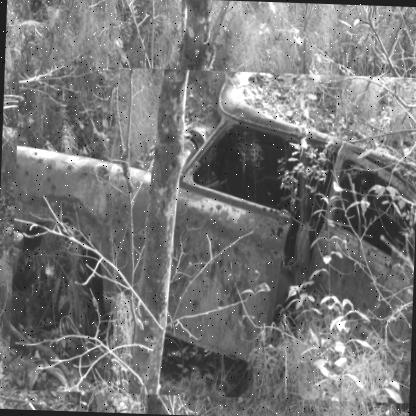Car: (8, 63, 415, 405)
